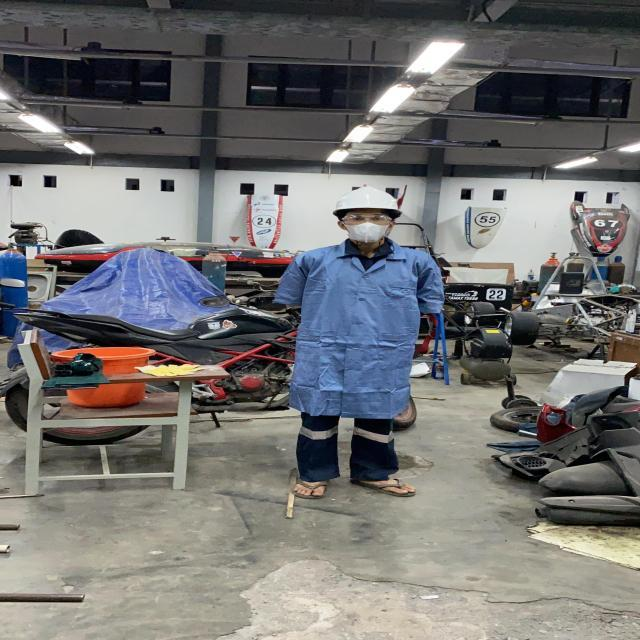glasses: (335, 213, 398, 226)
